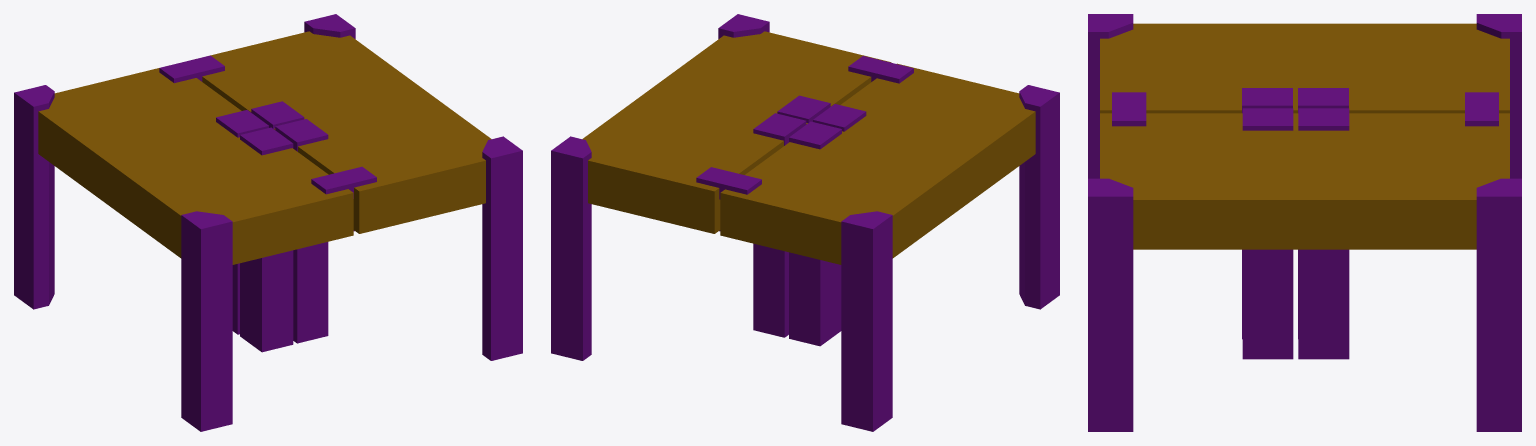
File: mesas2.fbx
3 renders of one model, left to right at view 1: azimuth 30°, elevation 25°; view 2: azimuth 150°, elevation 25°; view 3: azimuth 270°, elevation 25°, orthographic. The views are drawn at different scales.
Visible parts, largest first — view 1: pCube17, pCube16, pCube12, pCube18, pCube19, pCube14, pCube13, pCube15, pCube20; view 2: pCube17, pCube16, pCube12, pCube14, pCube20, pCube15, pCube13, pCube18, pCube19; view 3: pCube16, pCube17, pCube12, pCube20, pCube19, pCube13, pCube15, pCube18, pCube14.
Part boxes in pixels (box(x1,y1,x2,y2)): pCube17: box(38, 68, 353, 264); pCube16: box(202, 31, 491, 233); pCube12: box(14, 14, 522, 431); pCube18: box(240, 127, 293, 352); pCube19: box(275, 119, 328, 343); pCube14: box(216, 110, 268, 334); pCube13: box(311, 166, 376, 198); pCube15: box(159, 55, 224, 83); pCube20: box(251, 101, 304, 128); pCube17: box(720, 63, 1035, 264); pCube16: box(582, 31, 891, 233); pCube12: box(551, 14, 1059, 431); pCube14: box(789, 121, 841, 346); pCube20: box(753, 113, 806, 337); pCube15: box(696, 167, 761, 199); pCube13: box(848, 56, 913, 83); pCube18: box(813, 104, 866, 131); pCube19: box(777, 95, 830, 123); pCube16: box(1100, 113, 1509, 249); pCube17: box(1100, 23, 1509, 113); pCube12: box(1088, 14, 1521, 431); pCube20: box(1298, 108, 1349, 359); pCube19: box(1242, 108, 1293, 359); pCube13: box(1112, 92, 1146, 126); pCube15: box(1465, 92, 1498, 126); pCube18: box(1242, 88, 1292, 339); pCube14: box(1298, 88, 1348, 338).
Size of the model in its own units: 6.32 by 3.8 by 6.34.
